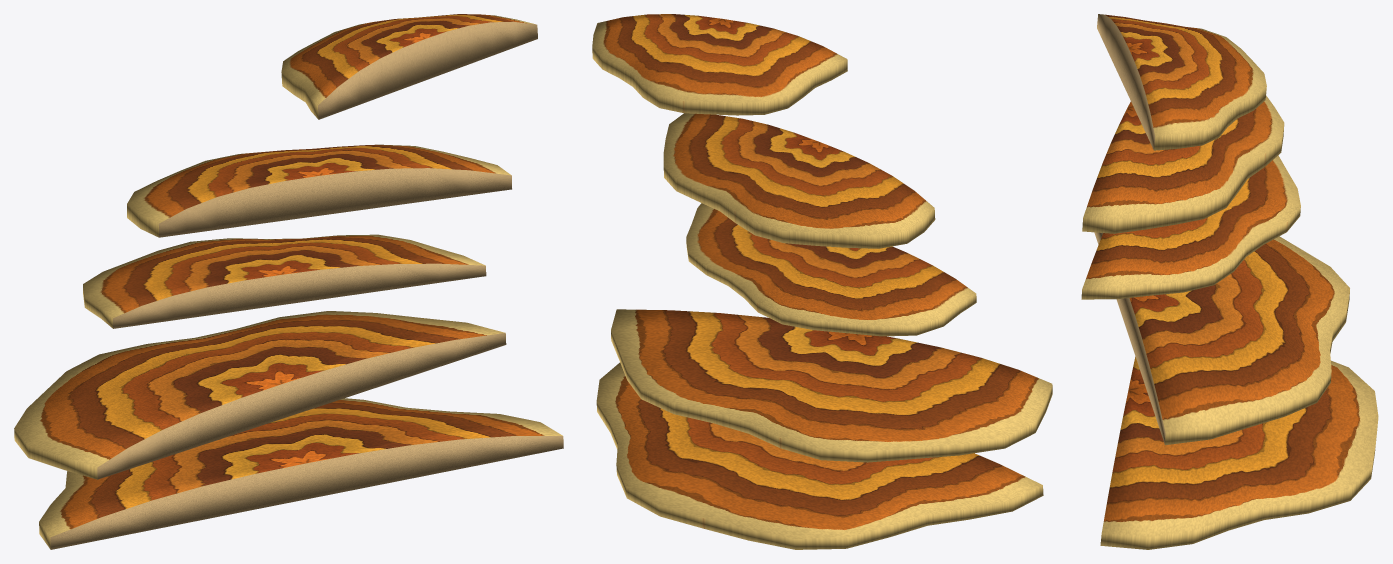
Rendered from bracket_fungus_v02.glb.
The picture shows the model from 3 angles, left to right: view 1: azimuth 30°, elevation 25°; view 2: azimuth 150°, elevation 25°; view 3: azimuth 270°, elevation 25°; orthographic projection. The views are drawn at different scales.
Parts seen in each view (by area): view 1: bracket_fungus_v02; view 2: bracket_fungus_v02; view 3: bracket_fungus_v02.
Boxes of the visible parts, x1,y1,x2,y2 form: bracket_fungus_v02: [14, 14, 563, 549]; bracket_fungus_v02: [592, 14, 1052, 549]; bracket_fungus_v02: [1081, 14, 1378, 549].
Size of the model in its own units: 0.2197 by 0.1899 by 0.1122.
2 materials, 2 textured.
